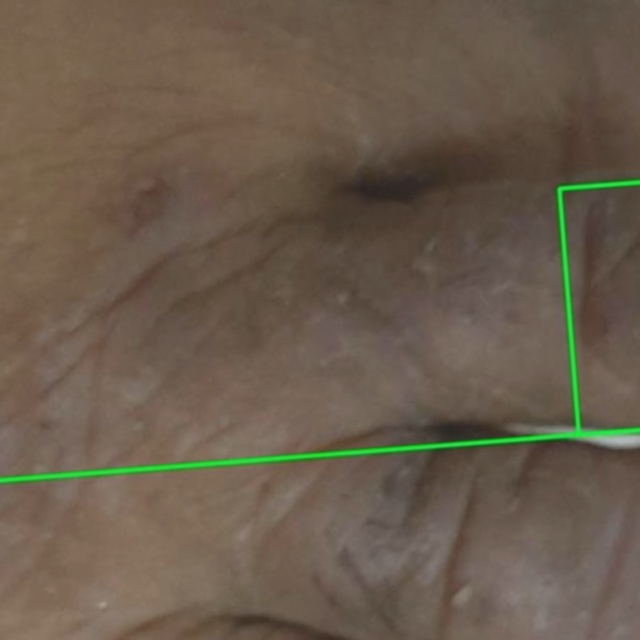Eczema: (0, 0, 639, 480), (559, 182, 639, 434)
